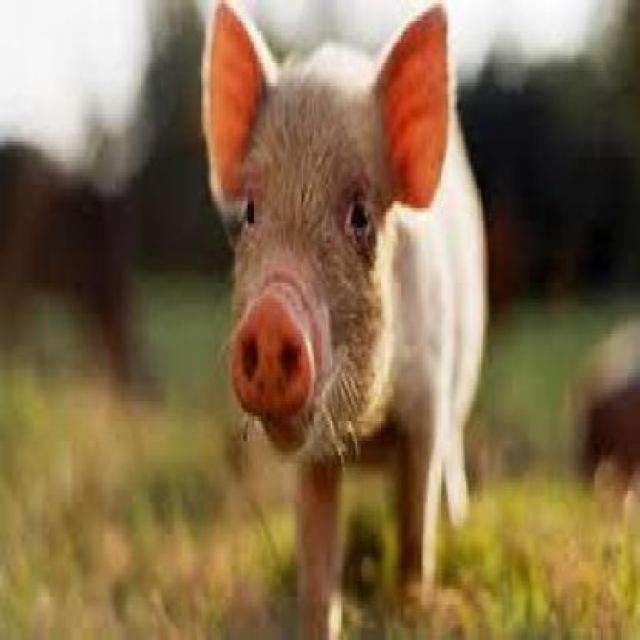Wild Boar: (196, 0, 498, 640)
